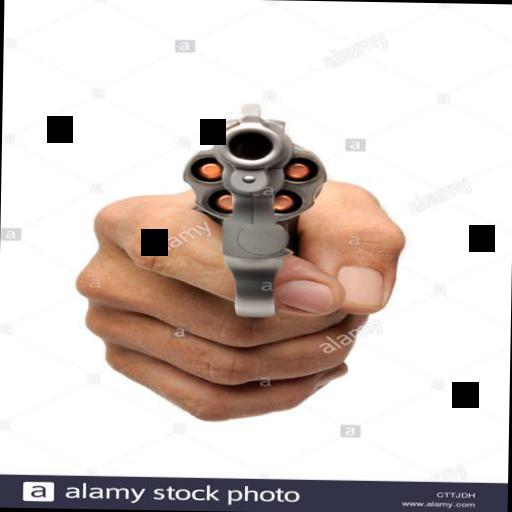Handgun: (168, 94, 330, 334)
